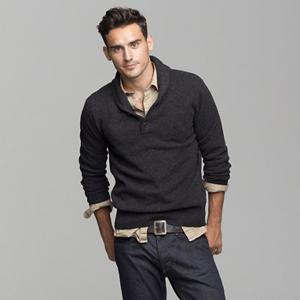S_cardigan sweater: (77, 59, 236, 228)
